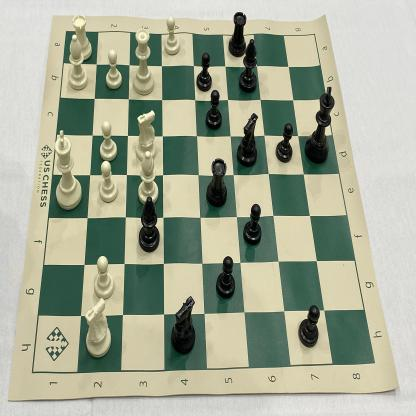black-bishop: (133, 193, 162, 255), (238, 35, 259, 97)
black-king: (303, 83, 335, 167)
black-knight: (169, 291, 197, 358), (236, 111, 259, 171)
black-pawn: (296, 299, 322, 351), (213, 252, 238, 300), (242, 200, 263, 249), (273, 119, 295, 165), (203, 88, 226, 131), (194, 49, 215, 94)
black-rook: (205, 152, 230, 209), (225, 6, 249, 60)
white-bishop: (63, 33, 91, 92), (137, 150, 160, 208)
white-king: (52, 127, 85, 211)
white-knight: (84, 294, 114, 362), (133, 107, 158, 163)
white-pawn: (92, 253, 116, 301), (97, 158, 119, 204), (160, 13, 181, 58), (104, 48, 125, 91), (98, 119, 119, 162)
white-queen: (132, 24, 156, 98)
white-rook: (70, 13, 94, 64)
